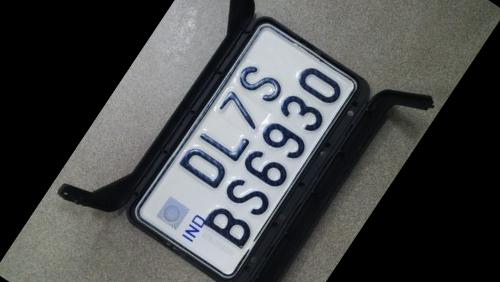plate: (126, 11, 362, 276)
